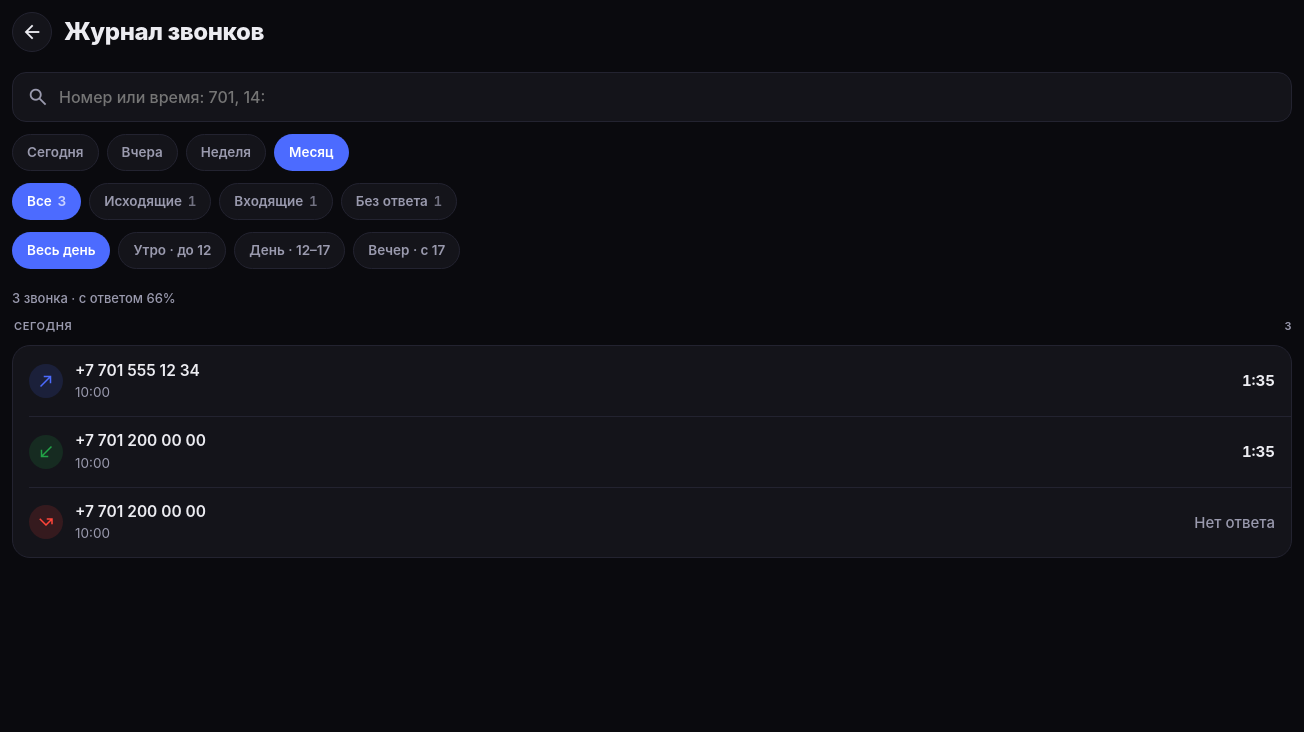
журнал звонков › поиск по цифрам номера
Expected: the text "+7 701 555 12 34" is shown, [75,361,200,380]
In the search field with placeholder "Номер или время: 701, 14:": (668, 97) [59,73,1277,121], type "5551234"
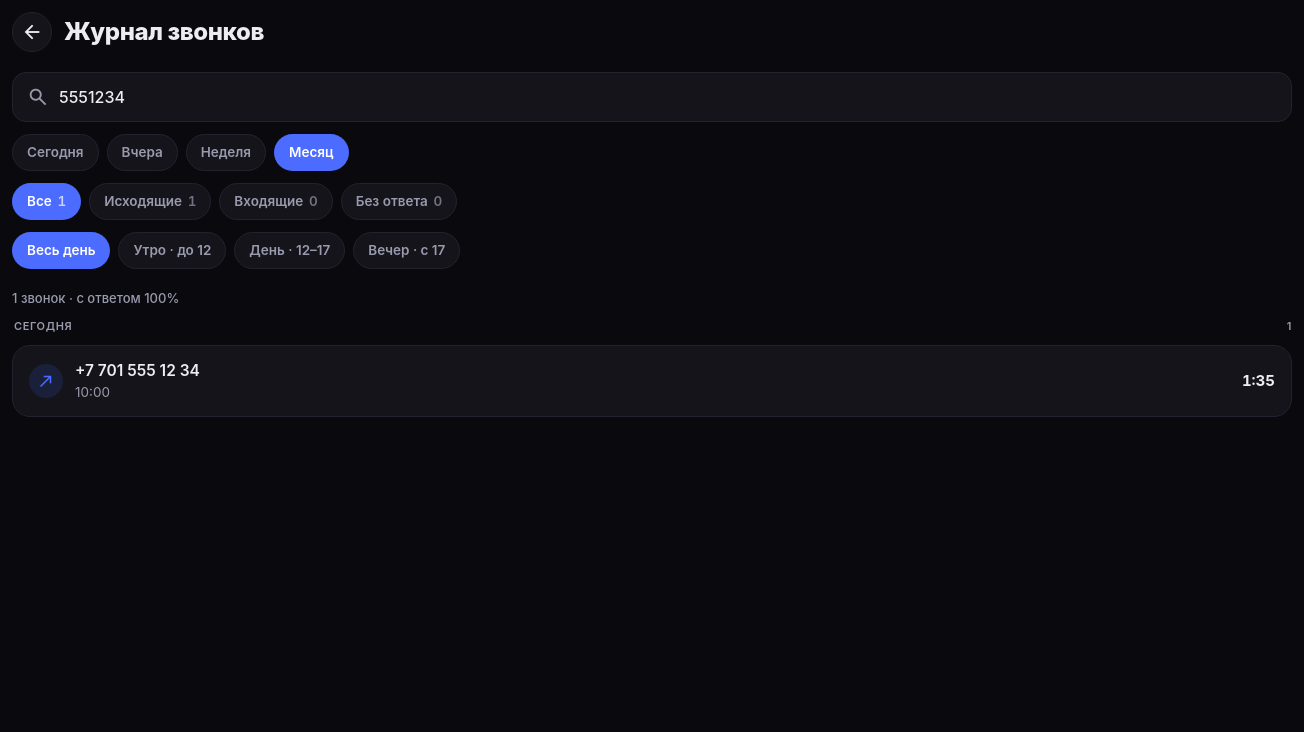
Expected: the text "1 звонок · с ответом 100%" is shown, [12,290,179,306]
